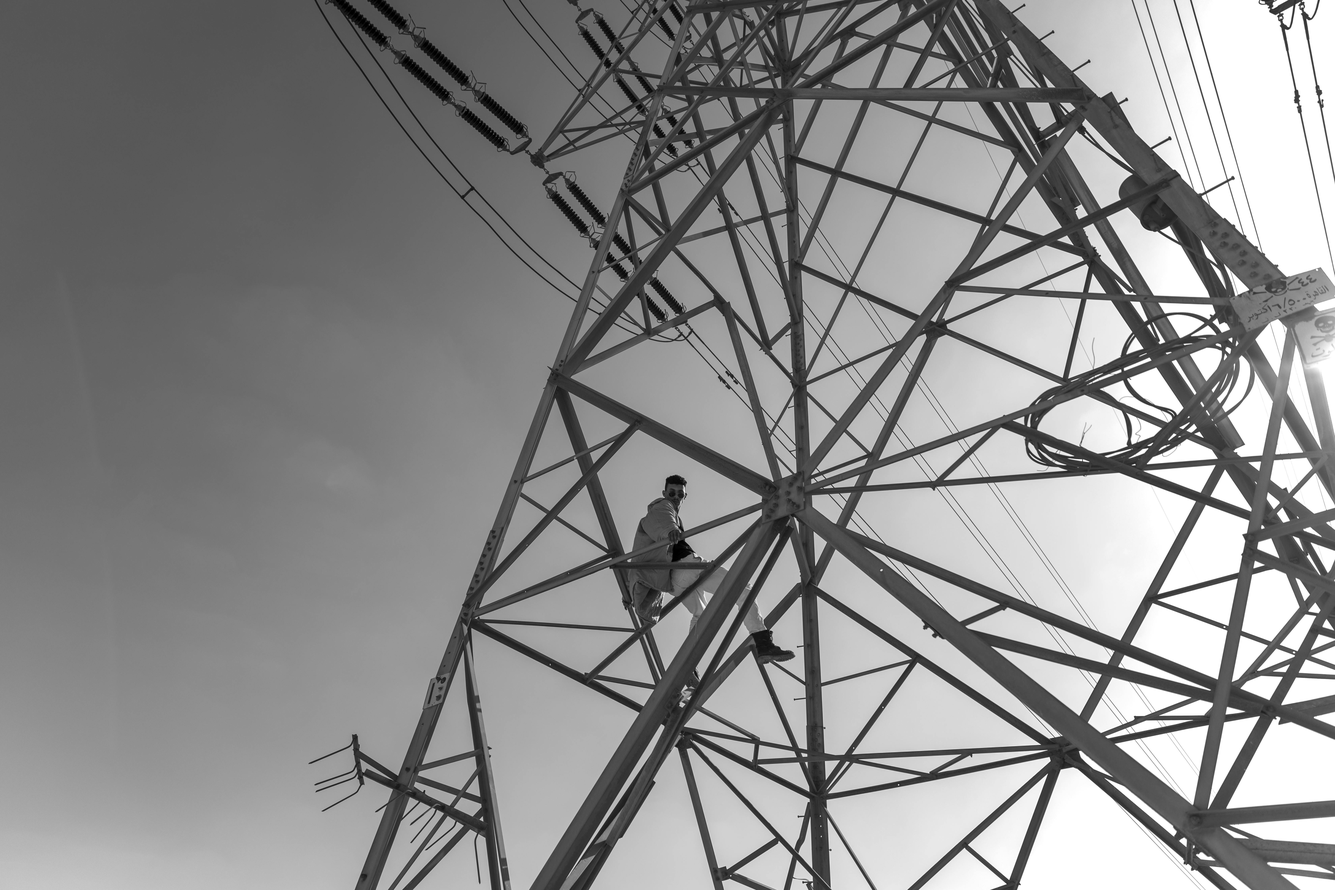insulator: (394, 43, 469, 102), (540, 170, 606, 236), (443, 102, 528, 152), (324, 2, 415, 40), (590, 228, 646, 286), (570, 14, 627, 65), (643, 276, 688, 329), (643, 109, 693, 155), (600, 62, 653, 105)
